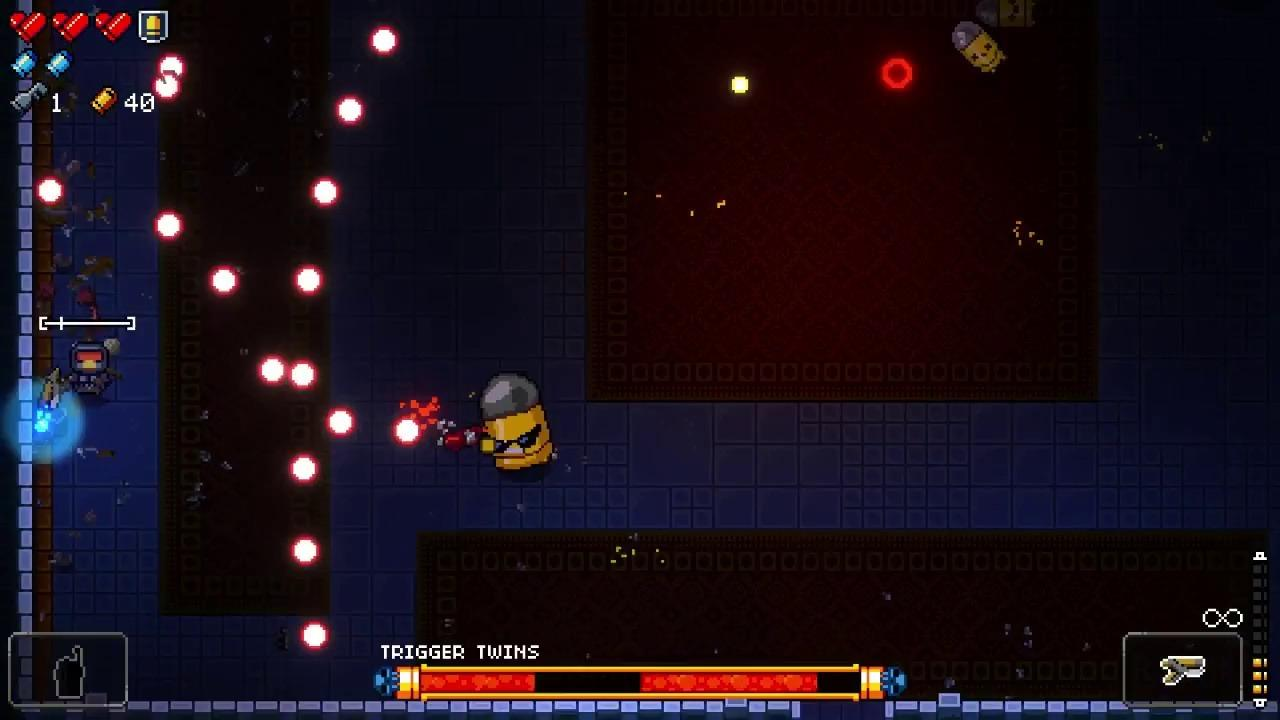boss_shades: (477, 369, 554, 469)
bullet: (331, 96, 369, 128), (208, 263, 239, 298), (327, 404, 358, 439), (294, 265, 326, 298), (394, 417, 423, 453), (153, 210, 184, 241), (311, 178, 341, 210), (287, 361, 317, 391), (287, 452, 315, 483), (259, 353, 286, 385), (302, 624, 332, 652), (289, 538, 318, 566), (371, 30, 400, 56), (38, 178, 65, 204), (151, 77, 179, 101), (157, 56, 185, 80)
dead_bullet_kin: (949, 20, 1007, 74), (973, 0, 1037, 31)
player: (71, 345, 111, 397)
